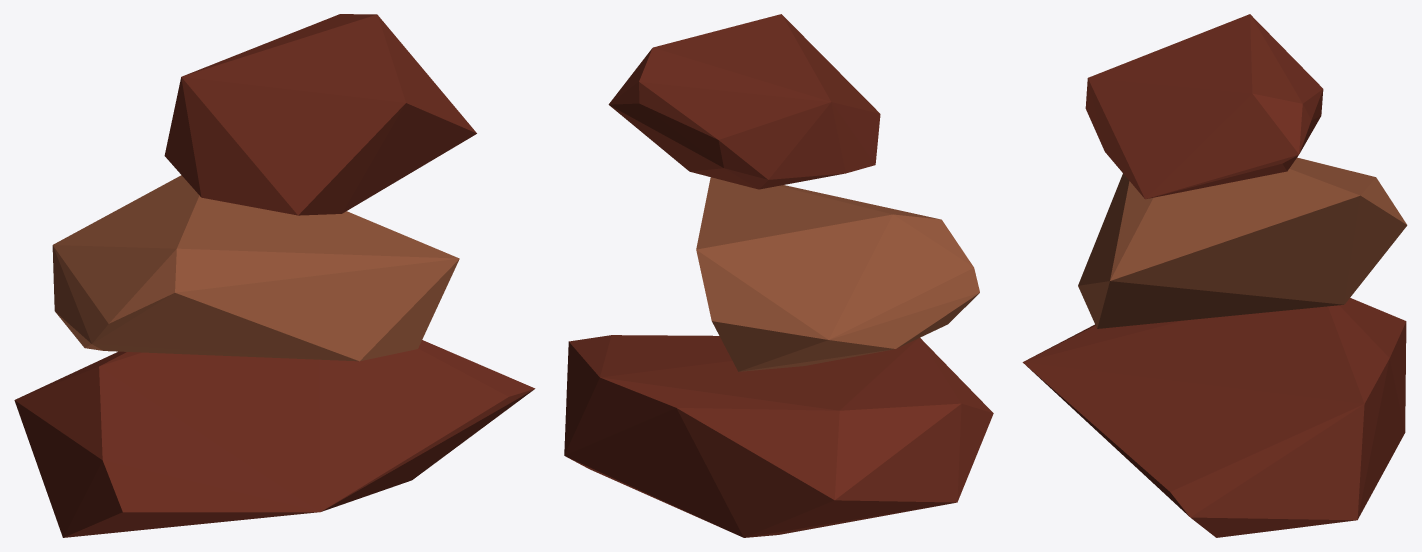
File: roca_roja.fbx
The picture shows the model from 3 angles, left to right: view 1: azimuth 30°, elevation 25°; view 2: azimuth 150°, elevation 25°; view 3: azimuth 270°, elevation 25°; orthographic projection. The views are drawn at different scales.
Visible parts, largest first — view 1: roca_roja; view 2: roca_roja; view 3: roca_roja.
Part boxes in pixels (box(x1,y1,x2,y2)): roca_roja: box(14, 14, 535, 537); roca_roja: box(564, 14, 993, 537); roca_roja: box(1022, 14, 1407, 537).
Bounding box in the file's own units: 2.5 × 2.45 × 1.92.
